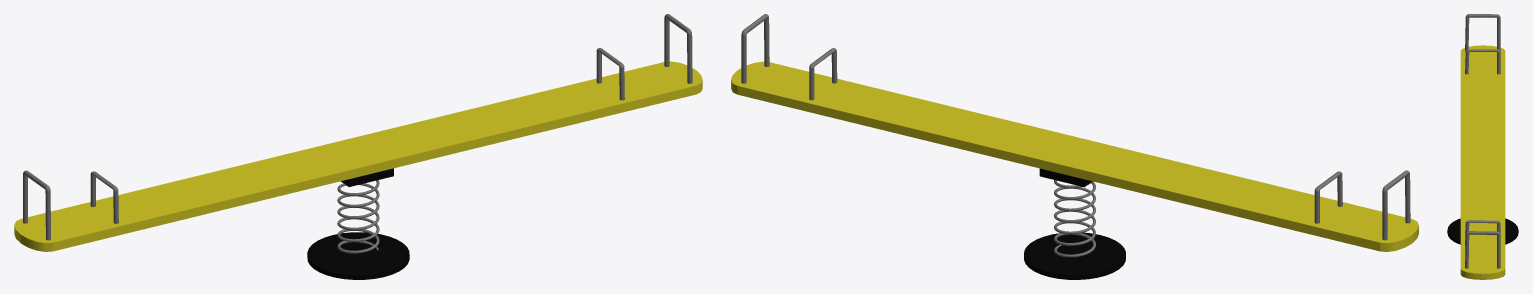
The model's file is jungkat jungkit.fbx.
3 views of the same model, side by side, from view 1: azimuth 30°, elevation 25°; view 2: azimuth 150°, elevation 25°; view 3: azimuth 270°, elevation 25° (orthographic). The views are drawn at different scales.
Visible parts, largest first — view 1: Cube.001, Cylinder, Circle, Cube.006, Cube.004, Cube.003, Cube.005, Cube; view 2: Cube.001, Cylinder, Circle, Cube.004, Cube.006, Cube.003, Cube.005, Cube; view 3: Cube.001, Cylinder, Cube.006, Cube.004, Cube.003, Cube.005.
Part boxes in pixels (x1,y1,x2,y2): Cube.001: [14, 61, 702, 251]; Cylinder: [307, 232, 409, 279]; Circle: [337, 180, 379, 253]; Cube.006: [664, 14, 692, 83]; Cube.004: [23, 170, 50, 240]; Cube.003: [90, 171, 118, 223]; Cube.005: [596, 48, 624, 100]; Cube: [341, 168, 393, 186]; Cube.001: [731, 61, 1418, 251]; Cylinder: [1024, 232, 1125, 279]; Circle: [1054, 180, 1095, 257]; Cube.004: [1382, 170, 1410, 240]; Cube.006: [741, 14, 769, 83]; Cube.003: [1314, 171, 1342, 223]; Cube.005: [809, 48, 837, 100]; Cube: [1039, 168, 1091, 187]; Cube.001: [1460, 45, 1505, 279]; Cylinder: [1447, 218, 1518, 244]; Cube.006: [1465, 231, 1500, 268]; Cube.004: [1465, 14, 1500, 50]; Cube.003: [1465, 49, 1500, 74]; Cube.005: [1465, 220, 1500, 244].
Bounding box in the file's own units: 602 × 135 × 79.12.
